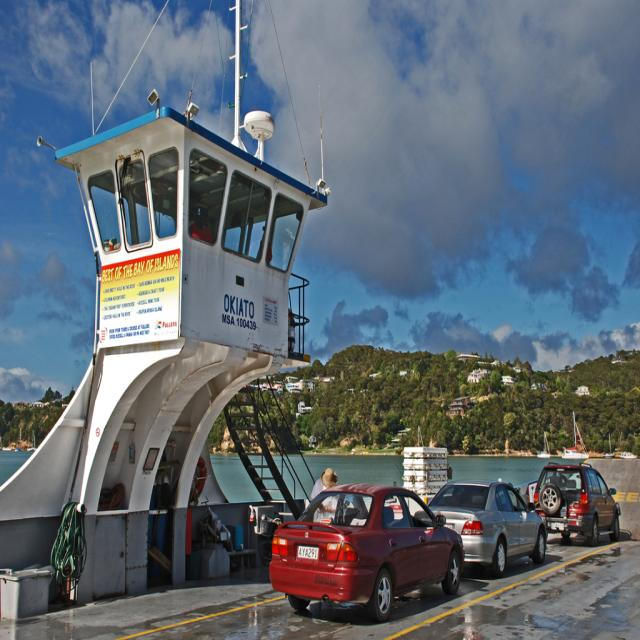car: (266, 483, 468, 616)
